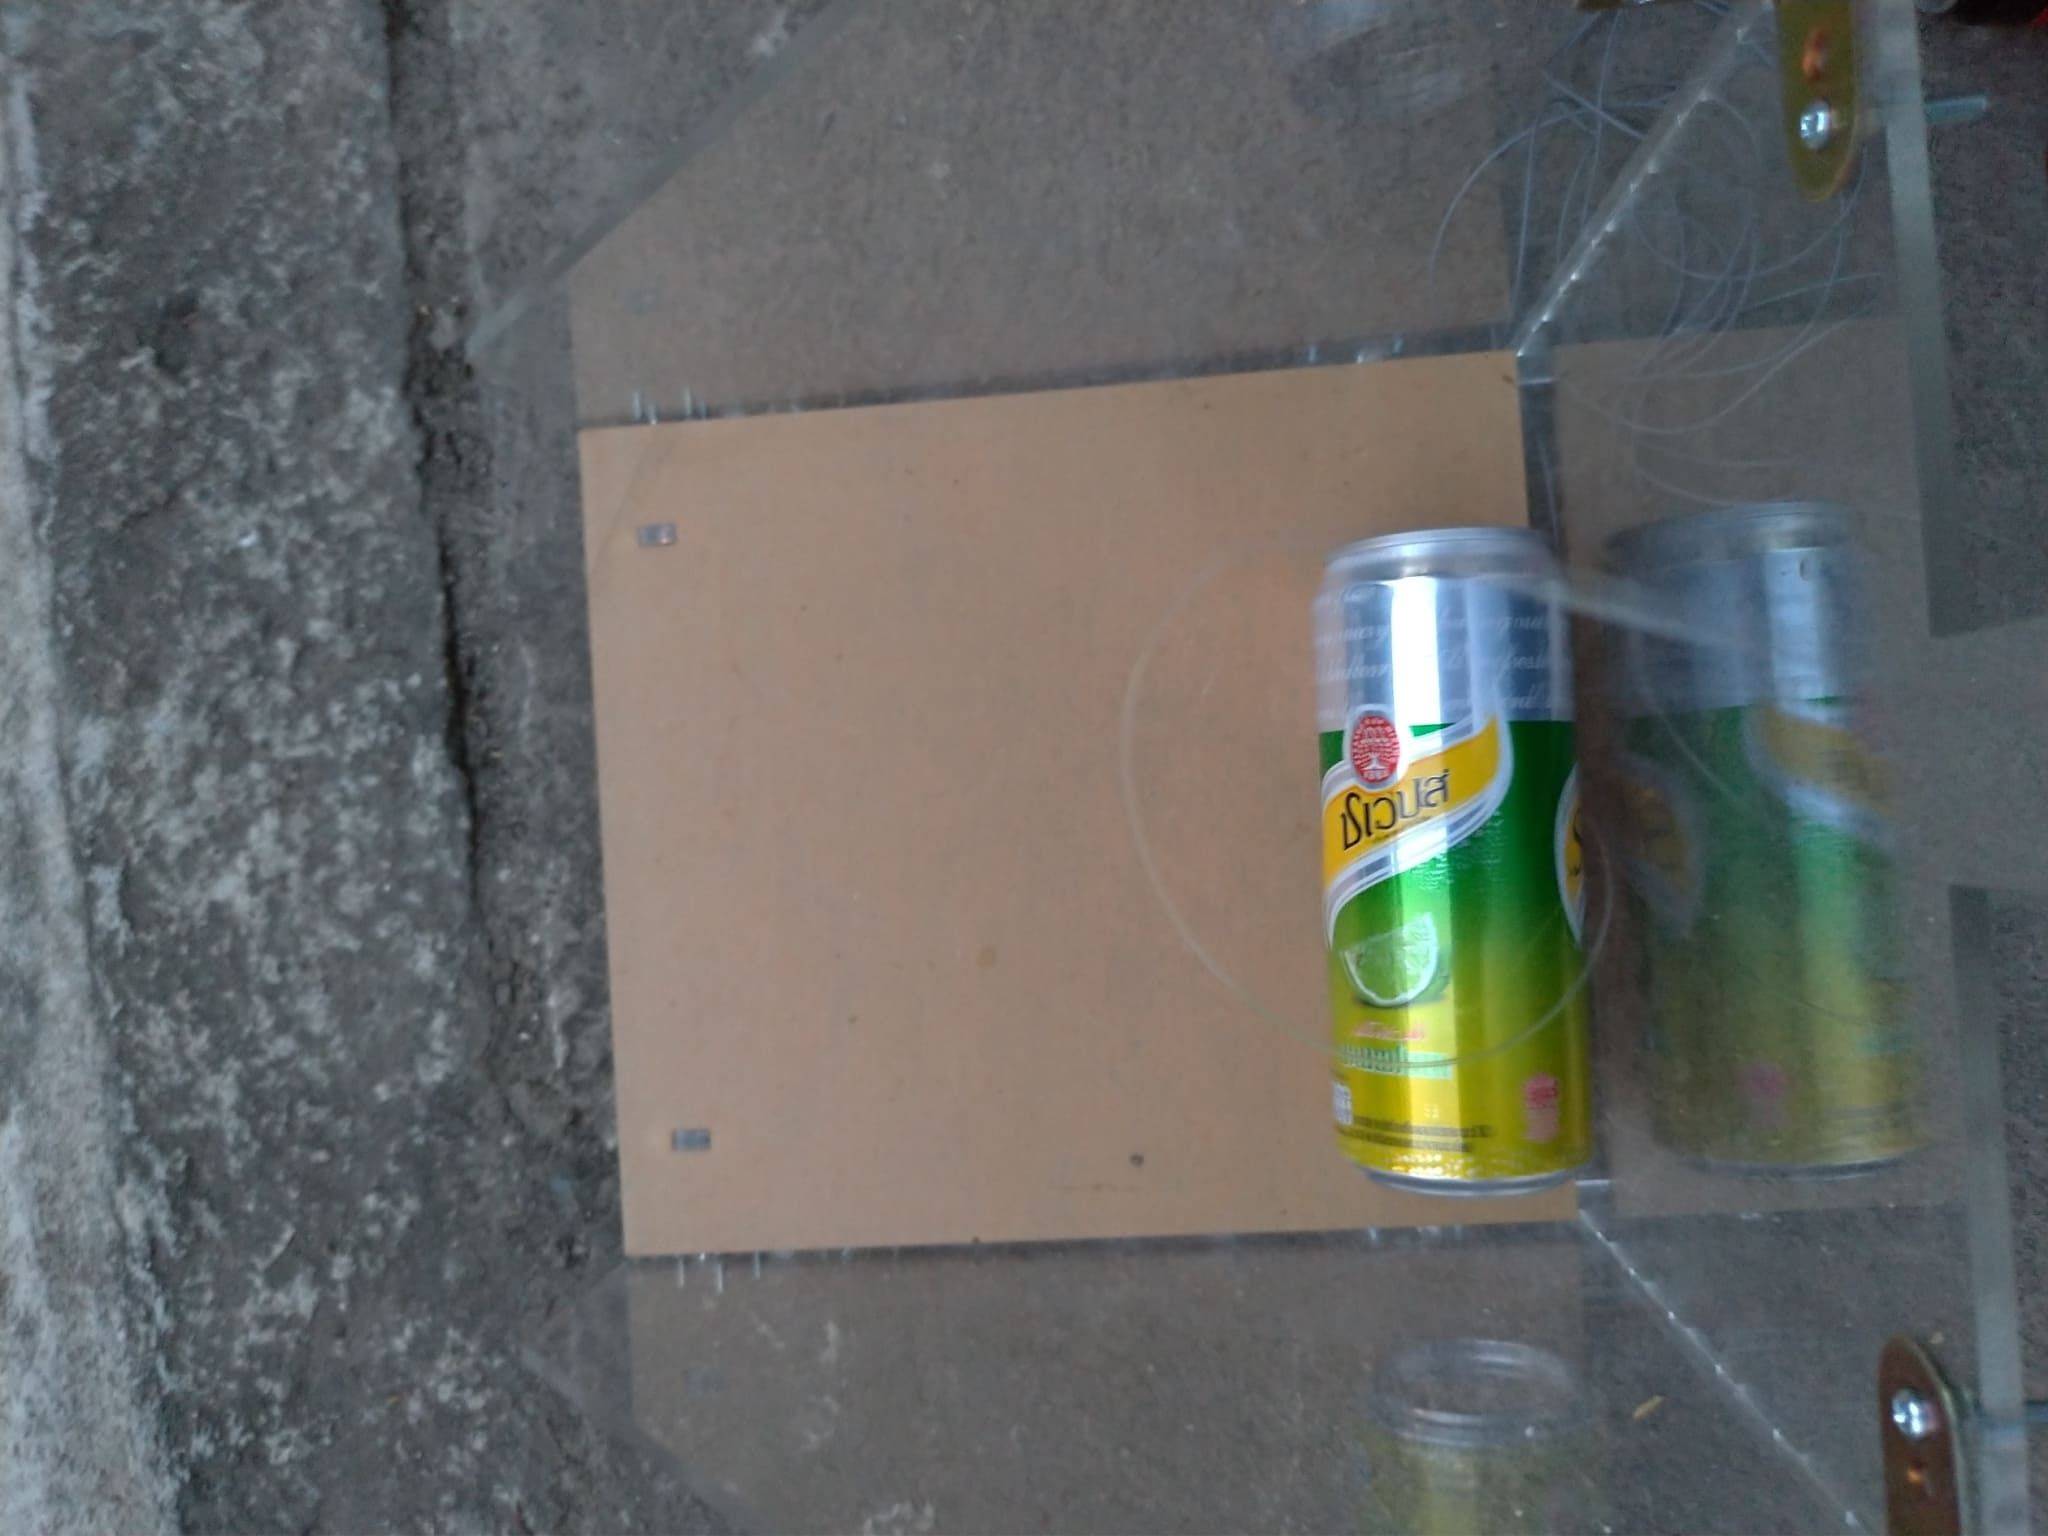AlCan: (1301, 526, 1608, 1191)
